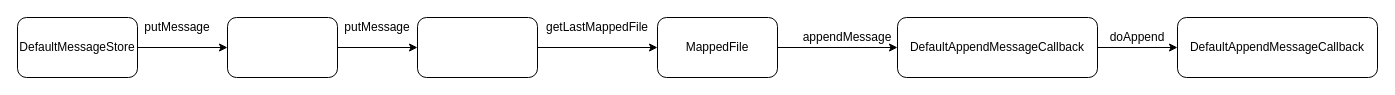
Image size: 1395x95. Some labels were removed from this diagram. Each missing label, with the centre of its shape:
"CommitLog" goes at (x=282, y=47).
"MappedFileQueue" goes at (x=477, y=47).
